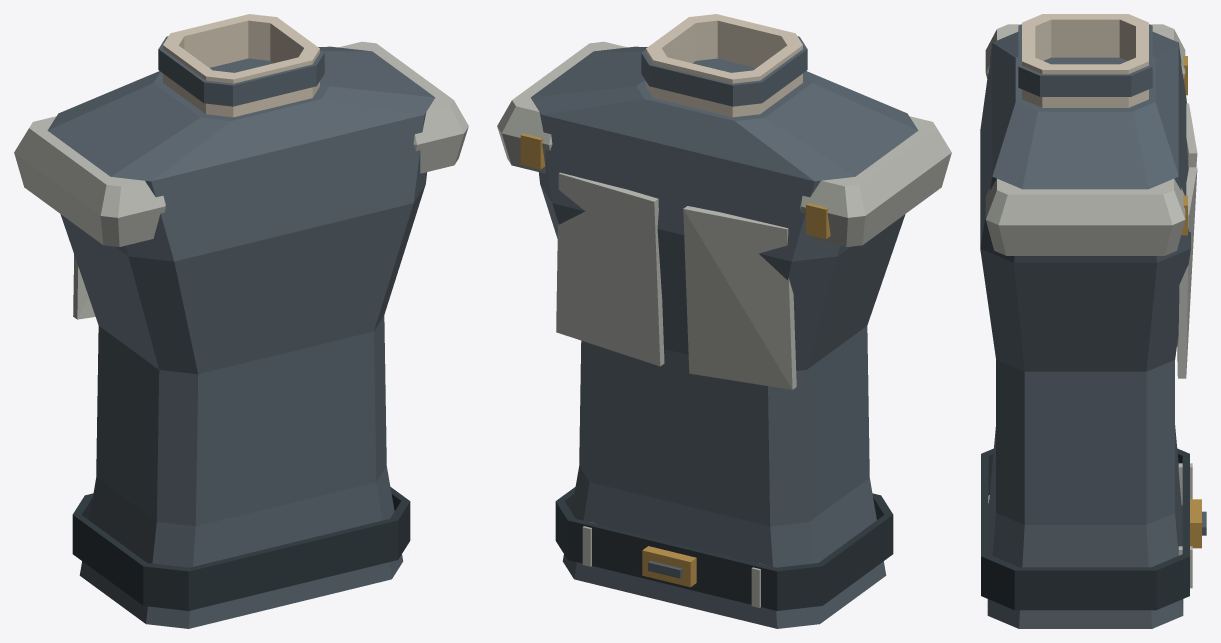
3 views of the same model, side by side, from view 1: azimuth 30°, elevation 25°; view 2: azimuth 150°, elevation 25°; view 3: azimuth 270°, elevation 25° (orthographic).
Visible parts, largest first — view 1: 现有程序躯干; view 2: 现有程序躯干; view 3: 现有程序躯干.
Boxes of the visible parts, <box> form: 现有程序躯干: <box>14,14,468,628</box>; 现有程序躯干: <box>497,14,951,628</box>; 现有程序躯干: <box>980,14,1206,628</box>.
Bounding box in the file's own units: 0.458 × 0.62 × 0.243.
Materials: 5 (5 with a texture image).
